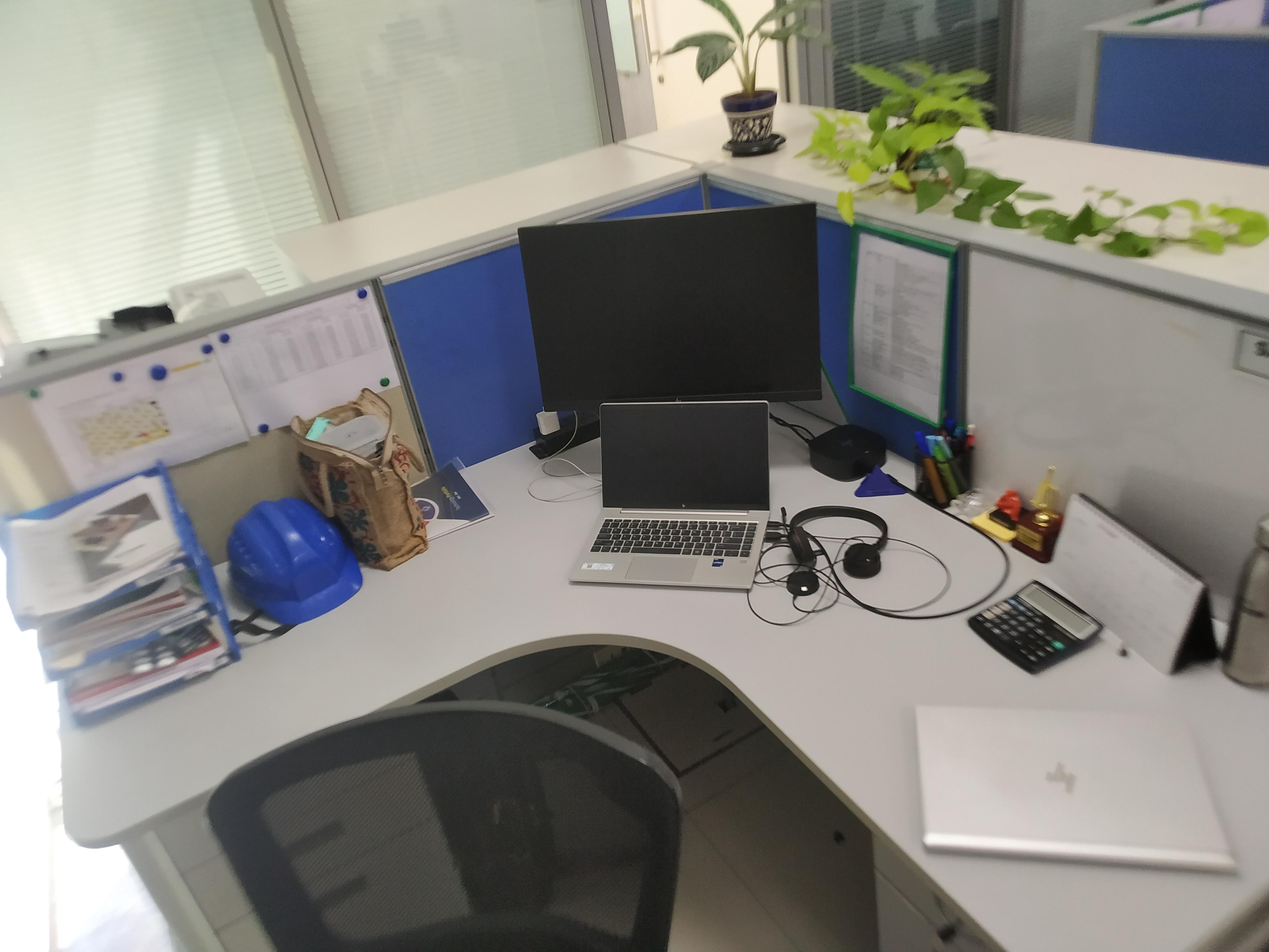book: (411, 455, 500, 543)
bottle: (1217, 508, 1269, 691)
calender: (1044, 480, 1230, 686)
desktop: (513, 198, 828, 417)
filetray: (0, 455, 246, 737)
headphone: (780, 504, 890, 581)
laptop: (909, 702, 1250, 882), (562, 397, 773, 594)
page: (23, 332, 252, 503), (209, 279, 407, 442), (845, 217, 963, 433)
